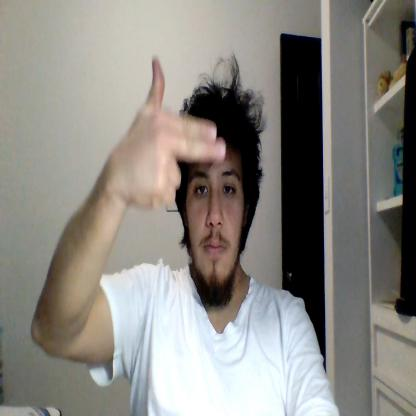H: (130, 55, 225, 211)
